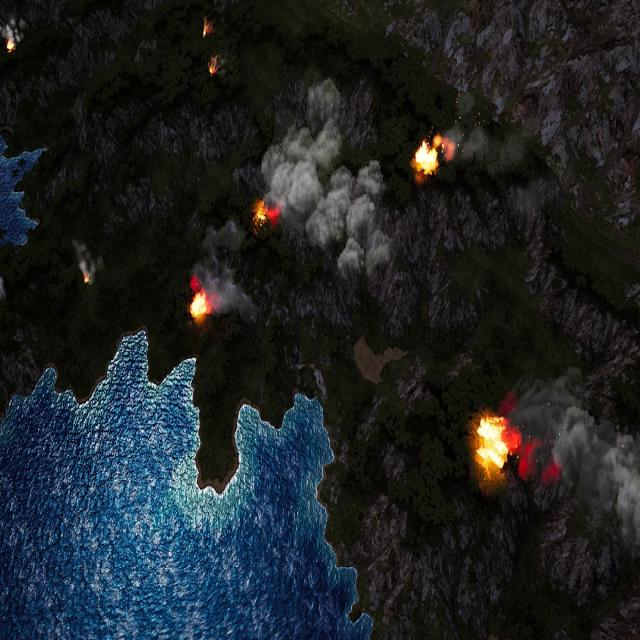fire: (476, 413, 510, 473), (413, 136, 440, 178), (253, 199, 279, 231), (188, 292, 208, 321), (201, 20, 213, 38), (209, 64, 218, 76), (6, 40, 15, 51)
smoke: (505, 358, 637, 634), (259, 79, 394, 284), (195, 217, 255, 324), (436, 95, 488, 167), (74, 235, 101, 288), (0, 16, 26, 45)
